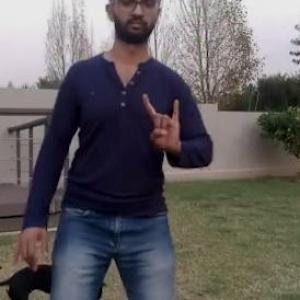takeoff-hand: (140, 86, 188, 160)
